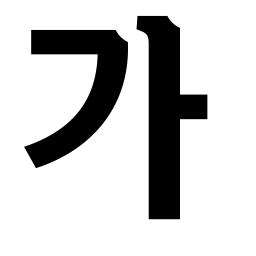Gaji: (138, 82, 197, 137)
